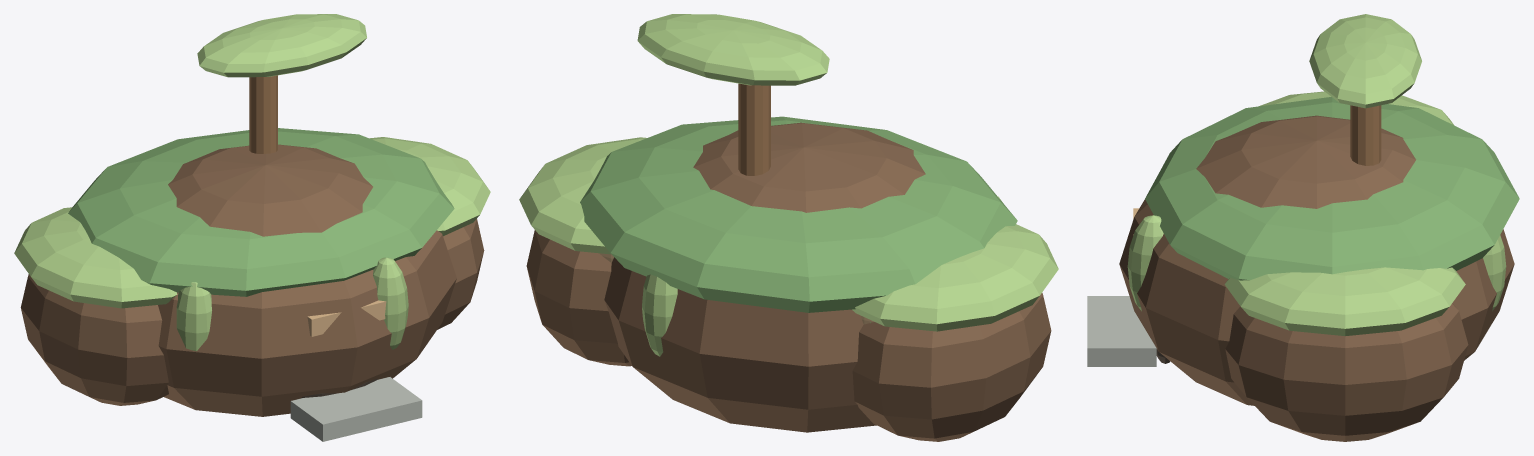
File: AntBurrow3.fbx
3 views of the same model, side by side, from view 1: azimuth 30°, elevation 25°; view 2: azimuth 150°, elevation 25°; view 3: azimuth 270°, elevation 25° (orthographic). The views are drawn at different scales.
Parts seen in each view (by area): view 1: Grassy earth mound.002, Moss roof.002, Side earth room.002, Side leaf roof.002, Lookout leaf, Small doorstep.002, Side leaf roof.003, Side earth room.003, Tall lookout stem, Tiny grass sprout.014, Tiny grass sprout.013, Entrance lintel.002; view 2: Moss roof.002, Grassy earth mound.002, Side earth room.002, Side leaf roof.002, Lookout leaf, Side earth room.003, Side leaf roof.003, Tall lookout stem, Tiny grass sprout.011; view 3: Moss roof.002, Grassy earth mound.002, Side earth room.003, Side leaf roof.003, Lookout leaf, Small doorstep.002, Tall lookout stem, Tiny grass sprout.014, Tiny grass sprout.011, Side leaf roof.002.
Boxes of the visible parts, box(x1,y1,x2,y2) form: Grassy earth mound.002: box(158, 144, 456, 416); Moss roof.002: box(68, 128, 454, 296); Side earth room.002: box(20, 274, 168, 405); Side leaf roof.002: box(14, 207, 177, 308); Lookout leaf: box(197, 14, 366, 77); Small doorstep.002: box(290, 377, 422, 441); Side leaf roof.003: box(369, 137, 490, 236); Side earth room.003: box(437, 219, 484, 329); Tall lookout stem: box(249, 75, 277, 153); Tiny grass sprout.014: box(373, 257, 408, 349); Tiny grass sprout.013: box(176, 282, 211, 351); Entrance lintel.002: box(307, 300, 386, 336); Moss roof.002: box(580, 116, 1017, 312); Grassy earth mound.002: box(604, 122, 925, 432); Side earth room.002: box(852, 293, 1051, 441); Side leaf roof.002: box(852, 224, 1058, 331); Lookout leaf: box(637, 14, 829, 85); Side earth room.003: box(526, 230, 631, 366); Side leaf roof.003: box(519, 137, 646, 254); Tall lookout stem: box(738, 83, 770, 175); Tiny grass sprout.011: box(642, 274, 677, 356); Moss roof.002: box(1145, 97, 1519, 280); Grassy earth mound.002: box(1119, 115, 1514, 405); Side earth room.003: box(1225, 303, 1468, 441); Side leaf roof.003: box(1224, 267, 1465, 336); Lookout leaf: box(1309, 14, 1421, 108); Small doorstep.002: box(1087, 296, 1156, 366); Tall lookout stem: box(1350, 105, 1381, 165); Tiny grass sprout.014: box(1127, 215, 1163, 311); Tiny grass sprout.011: box(1483, 235, 1506, 311); Side leaf roof.002: box(1259, 91, 1453, 124).
Bounding box in the file's own units: 214 × 157 × 169.
